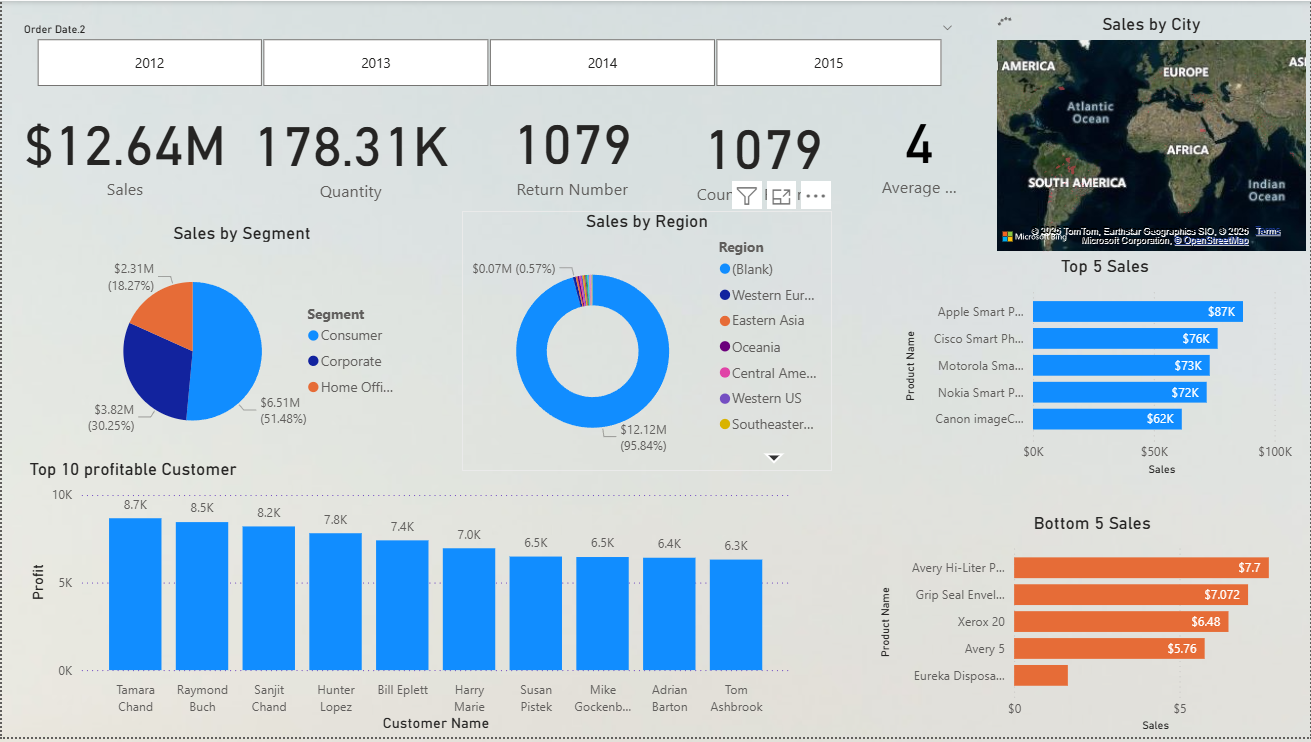

What the dashboard file says about the page in this screenshot:
{"tool":"powerbi","page":{"name":"Page 1","canvas":[1280,720],"ordinal":0},"visuals":[{"type":"card","fields":{"Values":["Sum(Orders.Sales)"]},"box":[8,90,224,110],"z":0},{"type":"card","fields":{"Values":["Sum(Orders.Quantity)"]},"box":[232,92,218,110],"z":1000},{"type":"card","fields":{"Values":["Avg(Orders.Delivery Day)"]},"box":[854,90,88,106],"z":2000},{"type":"card","fields":{"Values":["Sum(Returns.Return Number)"]},"box":[450,92,216,106],"z":3000},{"type":"card","fields":{"Values":["CountNonNull(Returns.Returned)"]},"box":[636,98,218,104],"z":4000},{"type":"slicer","fields":{"Values":["Orders.Order Date.2"]},"box":[8,16,934,74],"z":5000},{"type":"filledMap","fields":{"Category":["Orders.City"]},"box":[968,12,312,238],"z":6000},{"type":"clusteredBarChart","title":"Top 5 Sales","fields":{"Category":["Orders.Product Name"],"Y":["Sum(Orders.Sales)"]},"box":[878,250,402,220],"z":7000},{"type":"clusteredBarChart","title":"Bottom 5 Sales","fields":{"Y":["Sum(Orders.Sales)"],"Category":["Orders.Product Name"]},"box":[854,500,426,220],"z":8000},{"type":"pieChart","fields":{"Category":["Orders.Segment"],"Y":["Sum(Orders.Sales)"]},"box":[70,216,330,232],"z":9000},{"type":"donutChart","fields":{"Category":["People.Region"],"Y":["Sum(Orders.Sales)"]},"box":[450,206,362,254],"z":10000},{"type":"clusteredColumnChart","title":"Top 10 profitable Customer","fields":{"Category":["Orders.Customer Name"],"Y":["Sum(Orders.Profit)"]},"box":[22,448,754,272],"z":11000}]}

Visuals, with their boxes in screenshot pixels (x1, y1, x2, y2), scaled from the page's 1280x720 canvas onto the 1311x742 screenshot:
card - Sum(Orders.Sales): bbox=[8, 93, 238, 206]
card - Sum(Orders.Quantity): bbox=[238, 95, 461, 208]
card - Avg(Orders.Delivery Day): bbox=[875, 93, 965, 202]
card - Sum(Returns.Return Number): bbox=[461, 95, 682, 204]
card - CountNonNull(Returns.Returned): bbox=[651, 101, 875, 208]
slicer - Orders.Order Date.2: bbox=[8, 16, 965, 93]
filledMap - Orders.City: bbox=[991, 12, 1310, 258]
"Top 5 Sales" clusteredBarChart: bbox=[899, 258, 1310, 484]
"Bottom 5 Sales" clusteredBarChart: bbox=[875, 515, 1310, 741]
pieChart - Orders.Segment x Sum(Orders.Sales): bbox=[72, 223, 410, 462]
donutChart - People.Region x Sum(Orders.Sales): bbox=[461, 212, 832, 474]
"Top 10 profitable Customer" clusteredColumnChart: bbox=[23, 462, 795, 741]
